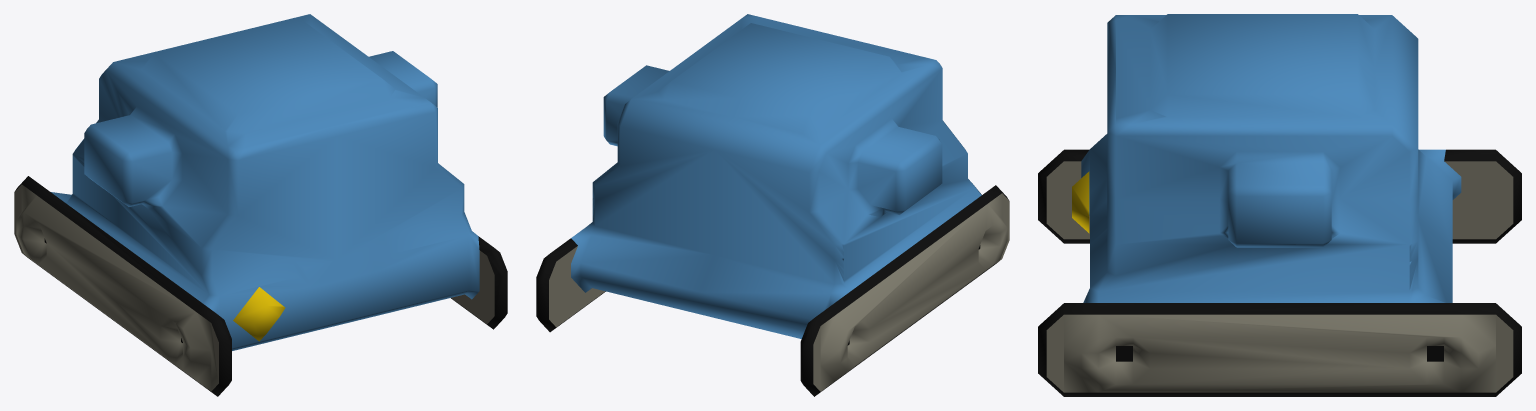
The model's file is MrTootsBody.fbx.
3 views of the same model, side by side, from view 1: azimuth 30°, elevation 25°; view 2: azimuth 150°, elevation 25°; view 3: azimuth 270°, elevation 25° (orthographic). The views are drawn at different scales.
Parts seen in each view (by area): view 1: officertoots_body_mc_001, officertoots_body_mc_003, officertoots_body_mc, officertoots_body_mc_002; view 2: officertoots_body_mc_001, officertoots_body_mc_003, officertoots_body_mc; view 3: officertoots_body_mc_001, officertoots_body_mc_003, officertoots_body_mc, officertoots_body_mc_002.
Part boxes in pixels (x1,y1,x2,y2): officertoots_body_mc_001: (51, 14, 479, 350); officertoots_body_mc_003: (14, 184, 494, 391); officertoots_body_mc: (15, 176, 507, 396); officertoots_body_mc_002: (233, 287, 285, 341); officertoots_body_mc_001: (571, 14, 981, 338); officertoots_body_mc_003: (549, 193, 1009, 391); officertoots_body_mc: (536, 185, 1008, 396); officertoots_body_mc_001: (1081, 14, 1461, 302); officertoots_body_mc_003: (1046, 161, 1513, 392); officertoots_body_mc: (1038, 149, 1521, 396); officertoots_body_mc_002: (1072, 171, 1089, 233).
Size of the model in its own units: 24 by 17 by 28.
